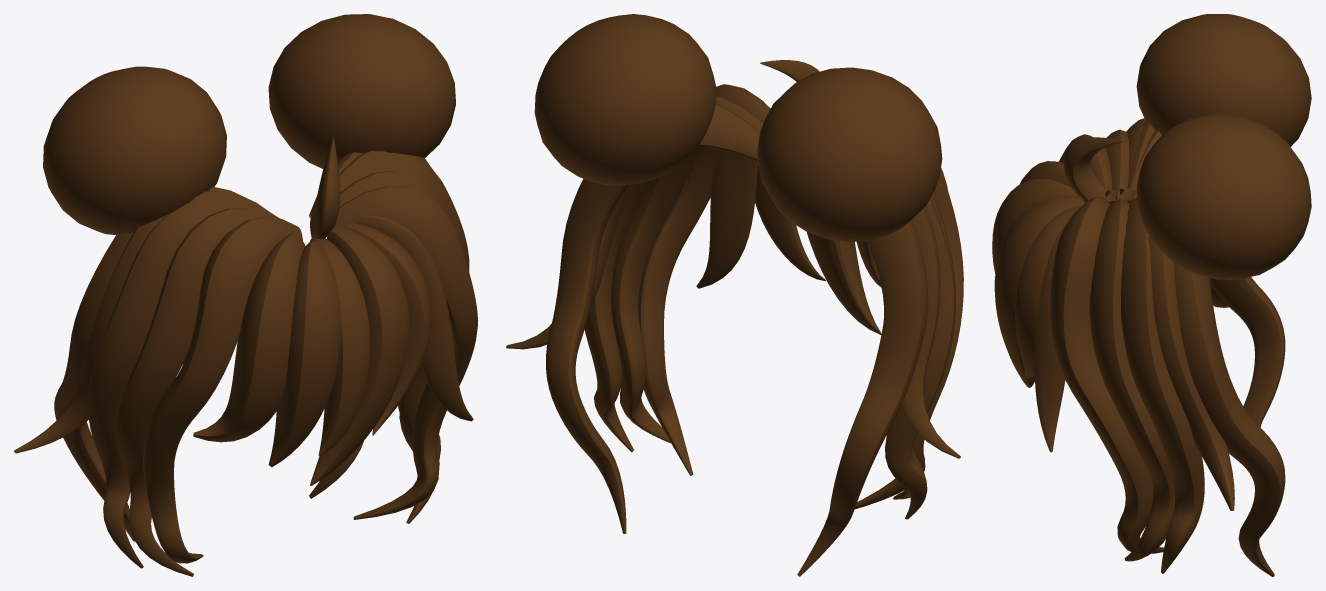
The model's file is Rambut Alyssia.fbx.
3 renders of one model, left to right at view 1: azimuth 30°, elevation 25°; view 2: azimuth 150°, elevation 25°; view 3: azimuth 270°, elevation 25°, orthographic. The views are drawn at different scales.
Visible parts, largest first — view 1: Rambut Alyssia; view 2: Rambut Alyssia; view 3: Rambut Alyssia.
Part boxes in pixels (<box>): Rambut Alyssia: <box>14,14,477,576</box>; Rambut Alyssia: <box>506,14,963,576</box>; Rambut Alyssia: <box>992,14,1311,576</box>.
Size of the model in its own units: 326 by 334 by 208.
